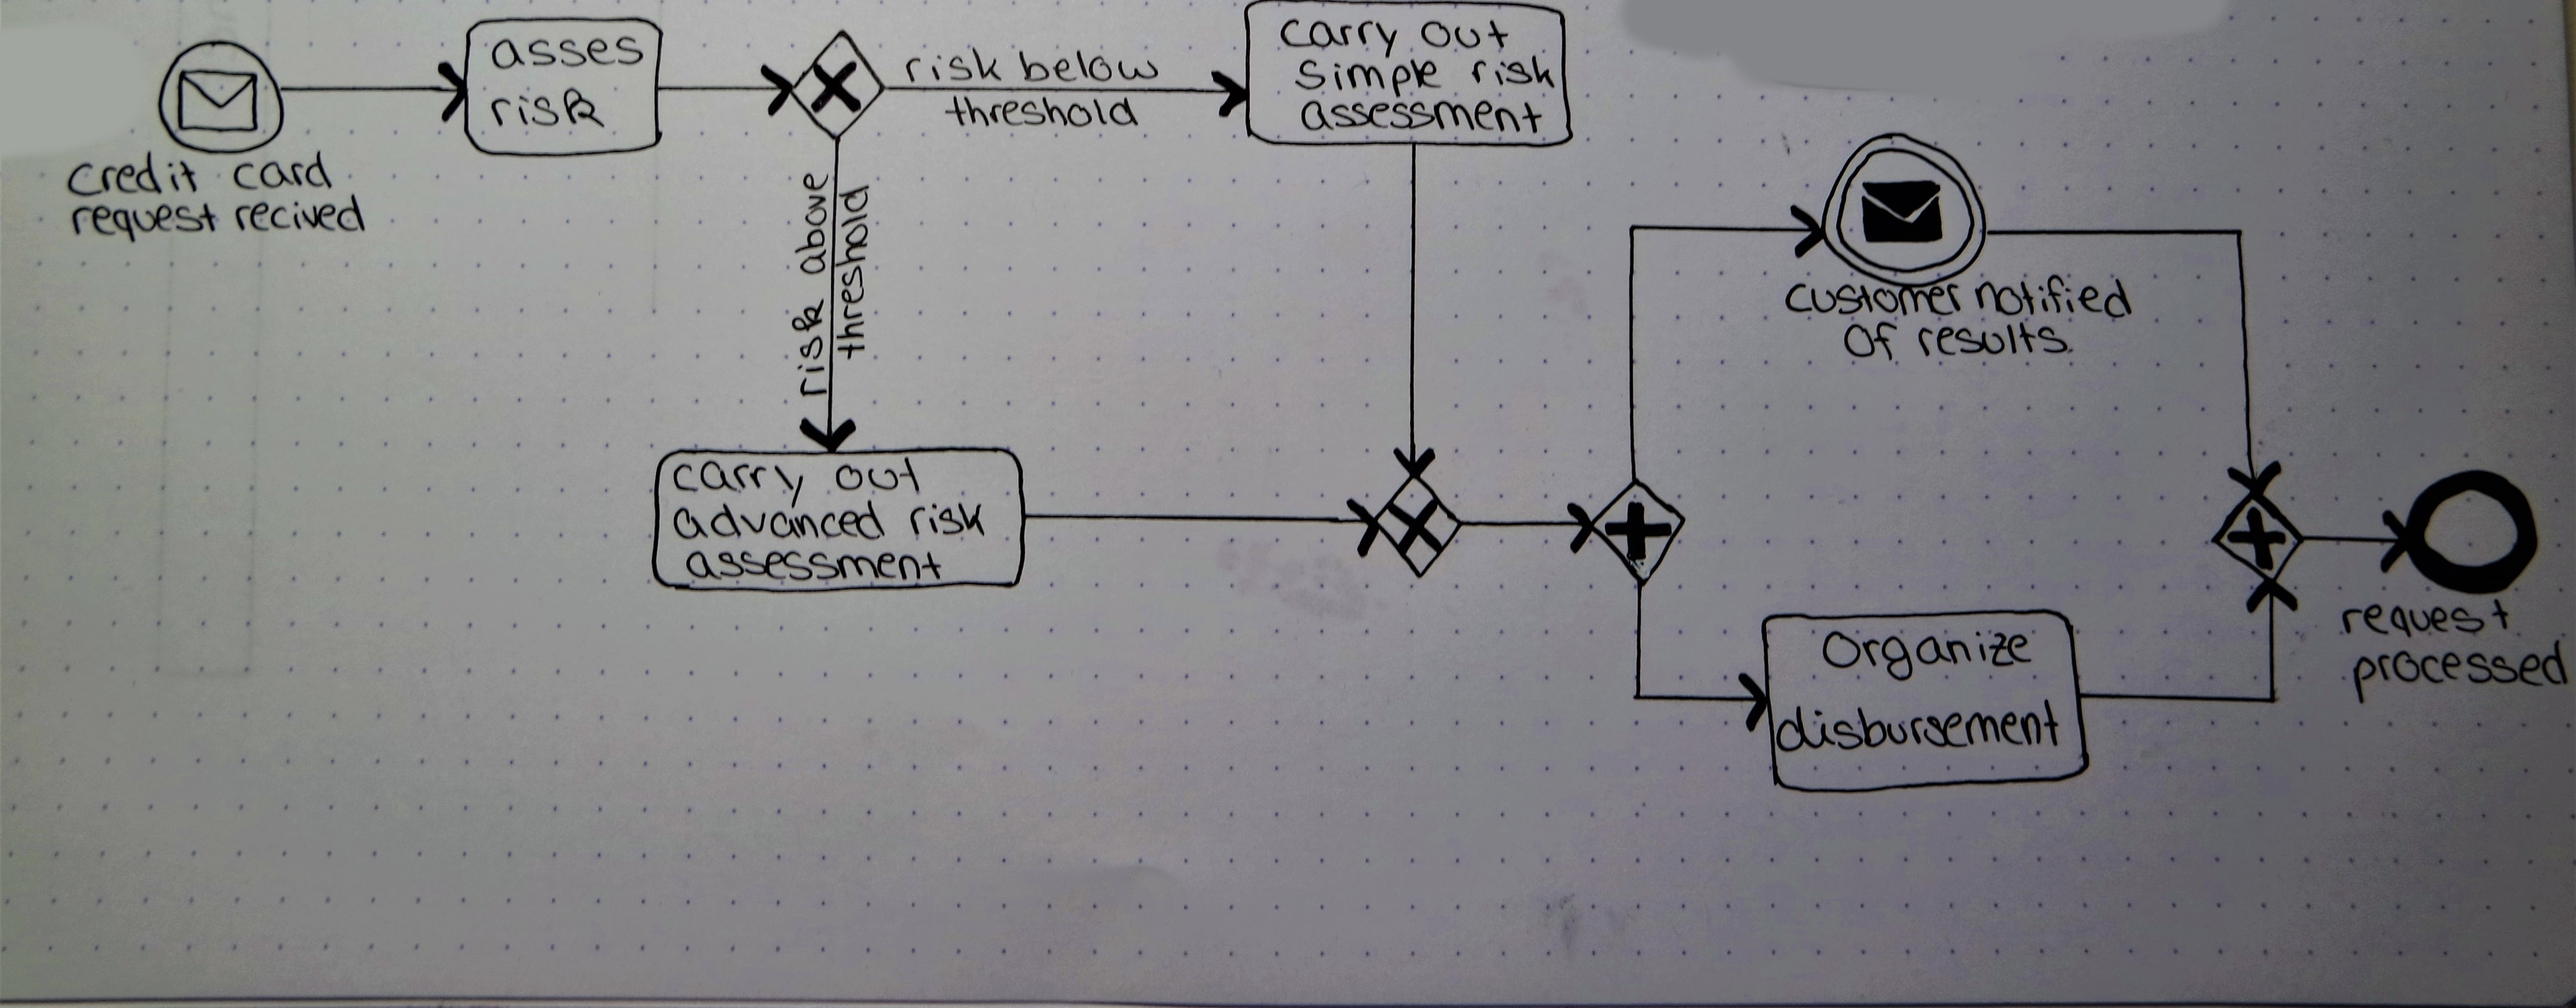Organize: (1819, 625, 2037, 685)
above: (790, 169, 831, 279)
advanced: (670, 496, 897, 545)
asses: (486, 33, 647, 74)
assessment: (1296, 95, 1548, 138), (682, 545, 946, 584)
below: (1014, 46, 1161, 90)
card: (228, 146, 337, 194)
carry: (669, 456, 808, 512), (1275, 15, 1403, 62)
credit: (64, 146, 200, 200)
customer: (1781, 277, 1965, 322)
disbursement: (1771, 694, 2065, 755)
notified: (1970, 271, 2136, 322)
of: (1840, 318, 1902, 364)
out: (831, 453, 923, 499), (1414, 16, 1511, 54)
processed: (2349, 637, 2571, 708)
recived: (232, 190, 370, 236)
request: (2338, 594, 2514, 642), (67, 199, 222, 246)
results: (1912, 318, 2073, 363)
risk: (488, 85, 609, 131), (787, 296, 831, 401), (900, 44, 1005, 87), (907, 497, 989, 542), (1467, 53, 1557, 92)
simple: (1290, 54, 1447, 102)
threshold: (941, 94, 1142, 131), (833, 182, 872, 364)
